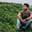face: (22, 3, 29, 11)
